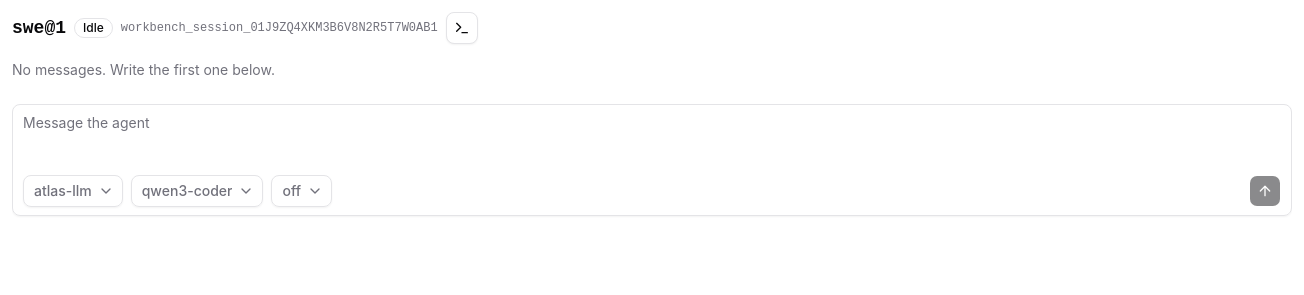
ChatView › keeps the draft and names the refusal when the send fails
The width and height of the screenshot is (1304, 295).
Type "again" into the text box labelled "Message" at (652, 137), box [13,105,1291,169]
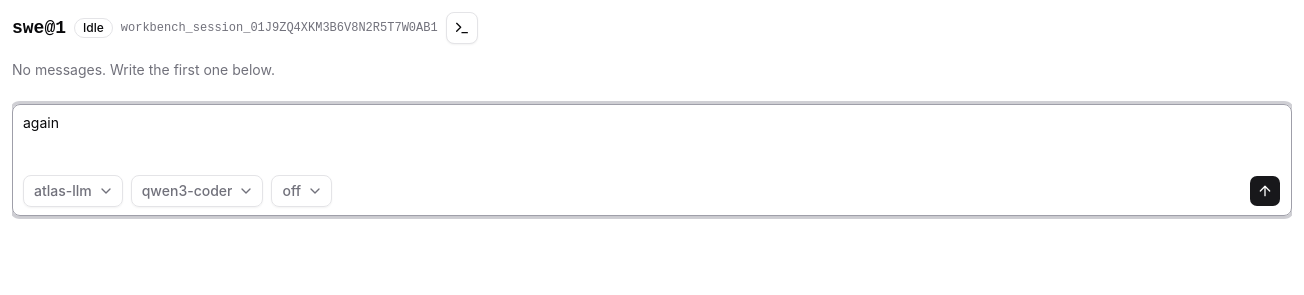
Click the button named "Send" at (1265, 191), box [1249,175,1281,207]
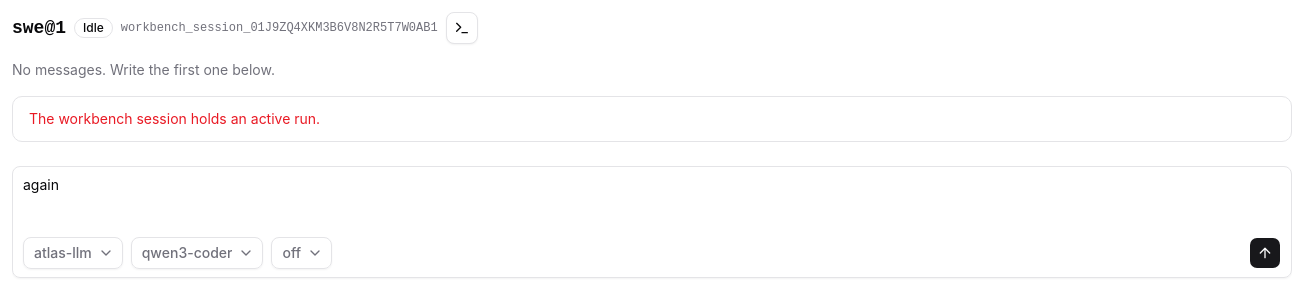
Expected: the text "The workbench session holds an active run." is shown, [29,110,320,127]
